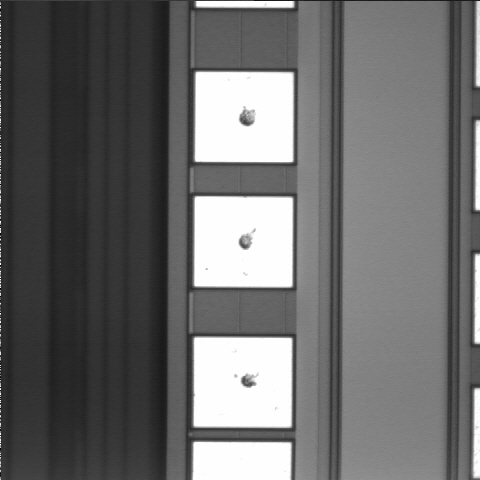pad: (194, 196, 293, 287), (195, 72, 293, 162), (194, 337, 292, 427)
